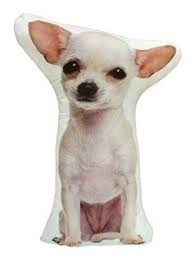chihuahua: (12, 11, 171, 262)
